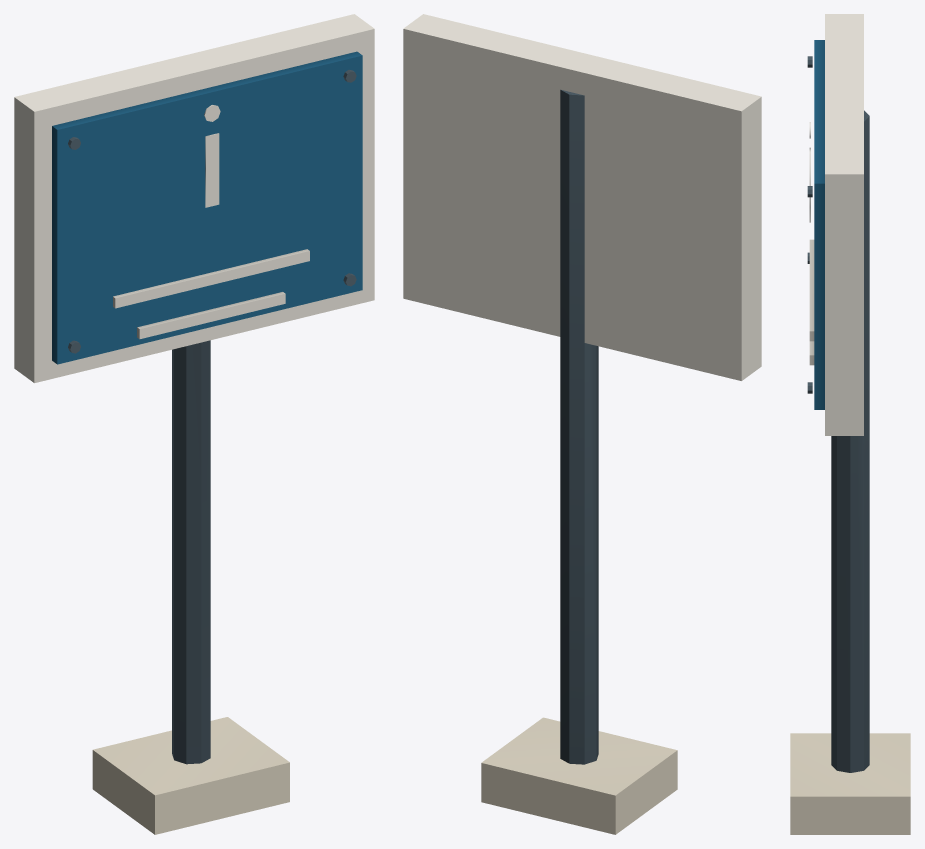
Rendered from information-sign.glb.
The picture shows the model from 3 angles, left to right: view 1: azimuth 30°, elevation 25°; view 2: azimuth 150°, elevation 25°; view 3: azimuth 270°, elevation 25°; orthographic projection. The views are drawn at different scales.
Parts seen in each view (by area): view 1: blue sign face, framed information board, sign post, sign foundation; view 2: framed information board, sign post, sign foundation; view 3: framed information board, sign post, sign foundation, blue sign face.
Part boxes in pixels (x1=…): blue sign face: x1=52, y1=51, x2=362, y2=364; framed information board: x1=14, y1=14, x2=374, y2=383; sign post: x1=68, y1=70, x2=356, y2=764; sign foundation: x1=92, y1=717, x2=289, y2=834; framed information board: x1=403, y1=14, x2=761, y2=380; sign post: x1=560, y1=89, x2=598, y2=764; sign foundation: x1=481, y1=717, x2=677, y2=834; framed information board: x1=809, y1=14, x2=863, y2=435; sign post: x1=807, y1=56, x2=869, y2=772; sign foundation: x1=790, y1=733, x2=910, y2=834; blue sign face: x1=814, y1=40, x2=824, y2=409.
Size of the model in its own units: 0.63 by 1.3 by 0.2.
